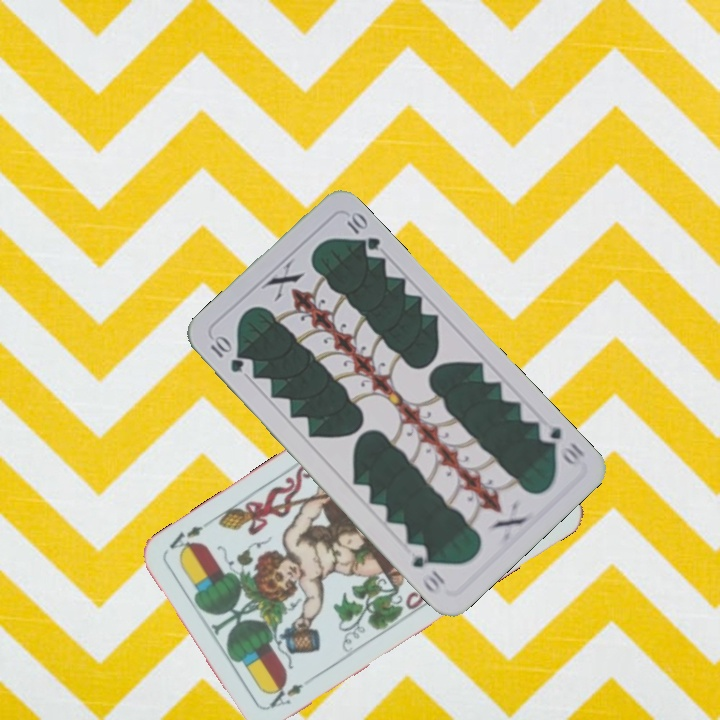EA: (264, 679, 305, 711)
G10: (534, 421, 588, 471), (206, 332, 247, 376)
